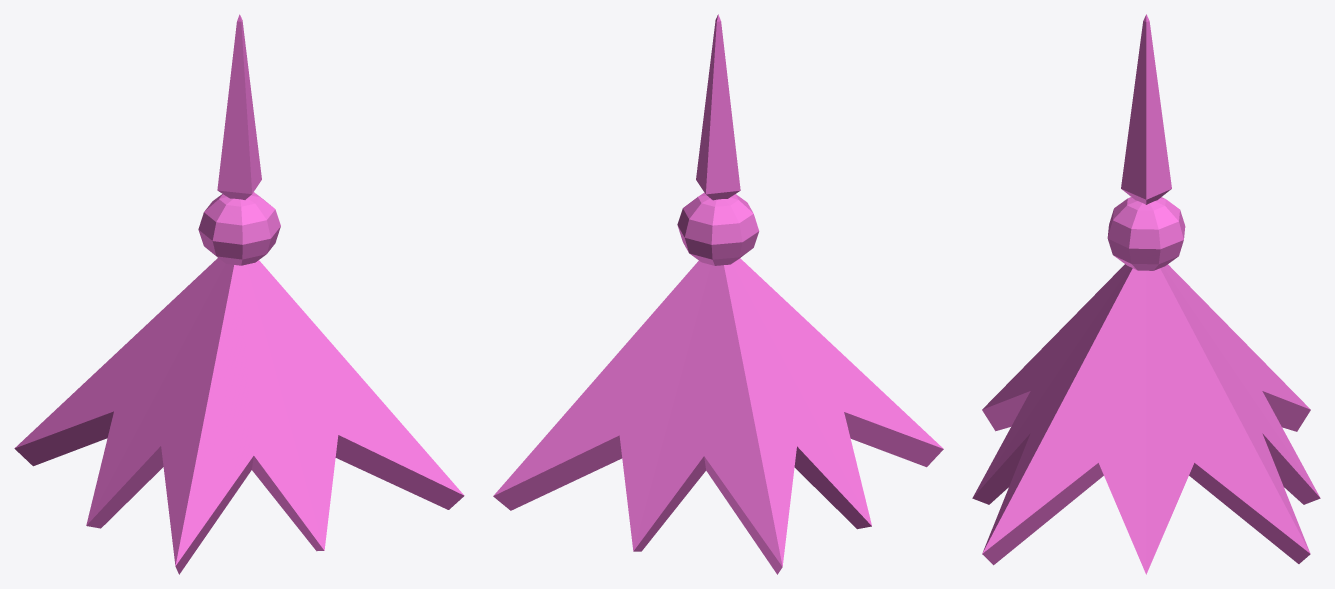
Rendered from SM_Roof_Finial_Square_A_Fantasy.fbx.
The picture shows the model from 3 angles, left to right: view 1: azimuth 30°, elevation 25°; view 2: azimuth 150°, elevation 25°; view 3: azimuth 270°, elevation 25°; orthographic projection. The views are drawn at different scales.
Visible parts, largest first — view 1: SM_Roof_Finial_Square_A_Fantasy; view 2: SM_Roof_Finial_Square_A_Fantasy; view 3: SM_Roof_Finial_Square_A_Fantasy.
Boxes of the visible parts, <box> form: SM_Roof_Finial_Square_A_Fantasy: <box>14,14,464,574</box>; SM_Roof_Finial_Square_A_Fantasy: <box>493,14,943,574</box>; SM_Roof_Finial_Square_A_Fantasy: <box>972,14,1320,574</box>.
Size of the model in its own units: 1.75 by 2.62 by 1.68.
